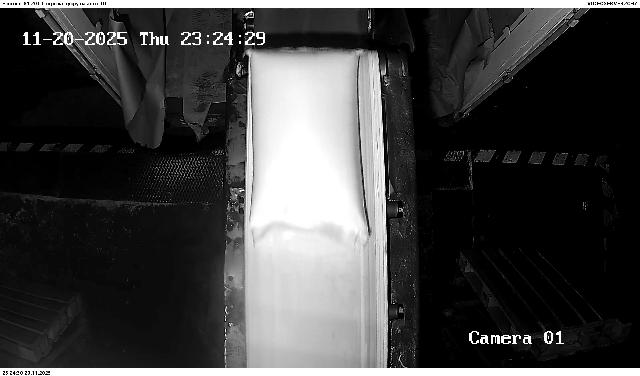bag: (246, 48, 370, 252)
